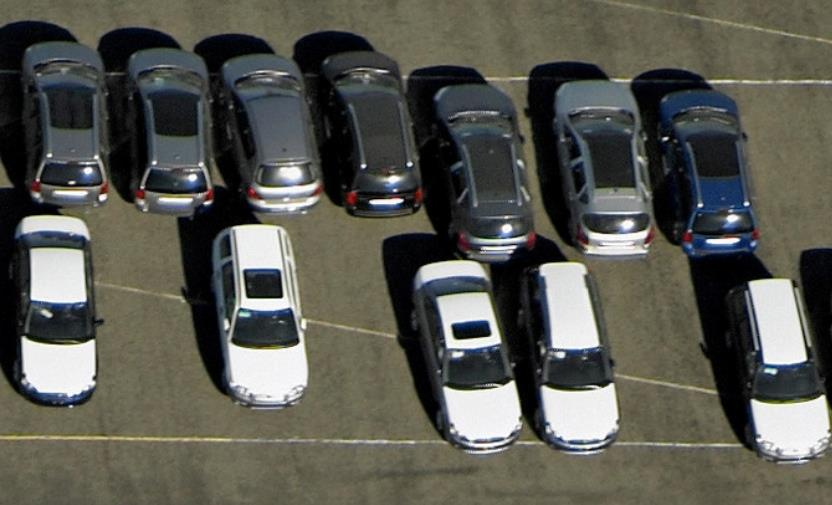car: (405, 259, 529, 456), (425, 82, 543, 265), (723, 274, 832, 468), (550, 74, 662, 260), (522, 256, 624, 460), (205, 223, 315, 411), (5, 210, 105, 409), (318, 44, 423, 222), (216, 50, 326, 218), (659, 84, 764, 255), (18, 37, 113, 210), (119, 45, 213, 218)
